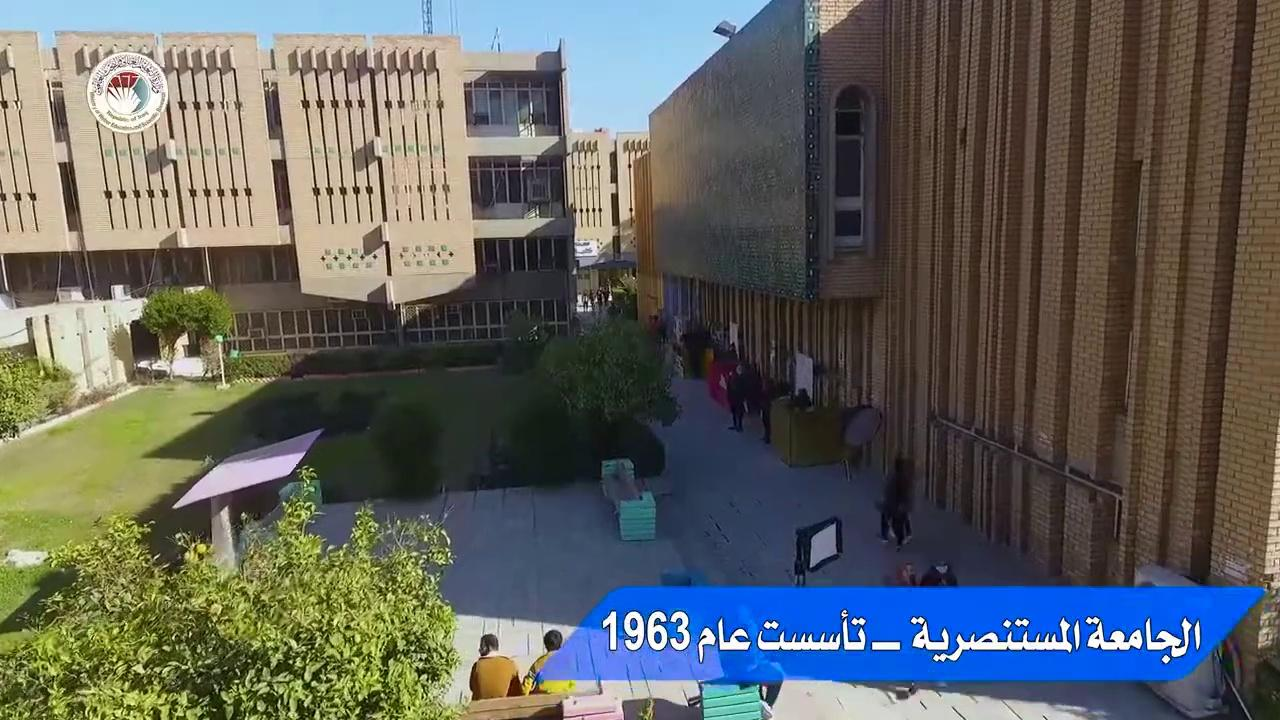car: (135, 357, 170, 383), (573, 238, 599, 259)
person: (468, 633, 524, 700), (878, 452, 914, 552), (524, 629, 576, 694), (920, 562, 957, 586), (895, 561, 917, 585)
tree: (2, 464, 468, 720), (533, 307, 681, 478), (137, 284, 233, 380), (367, 399, 446, 497), (0, 347, 75, 442), (183, 286, 233, 347)
